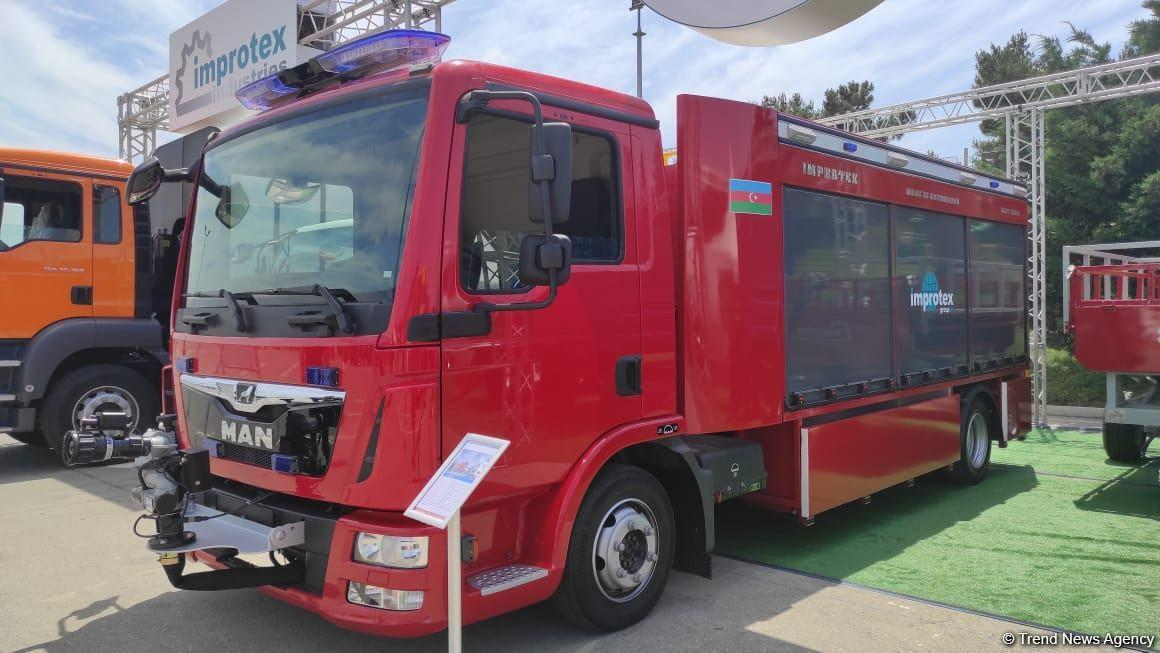Fire-engine: (145, 32, 1160, 642)
